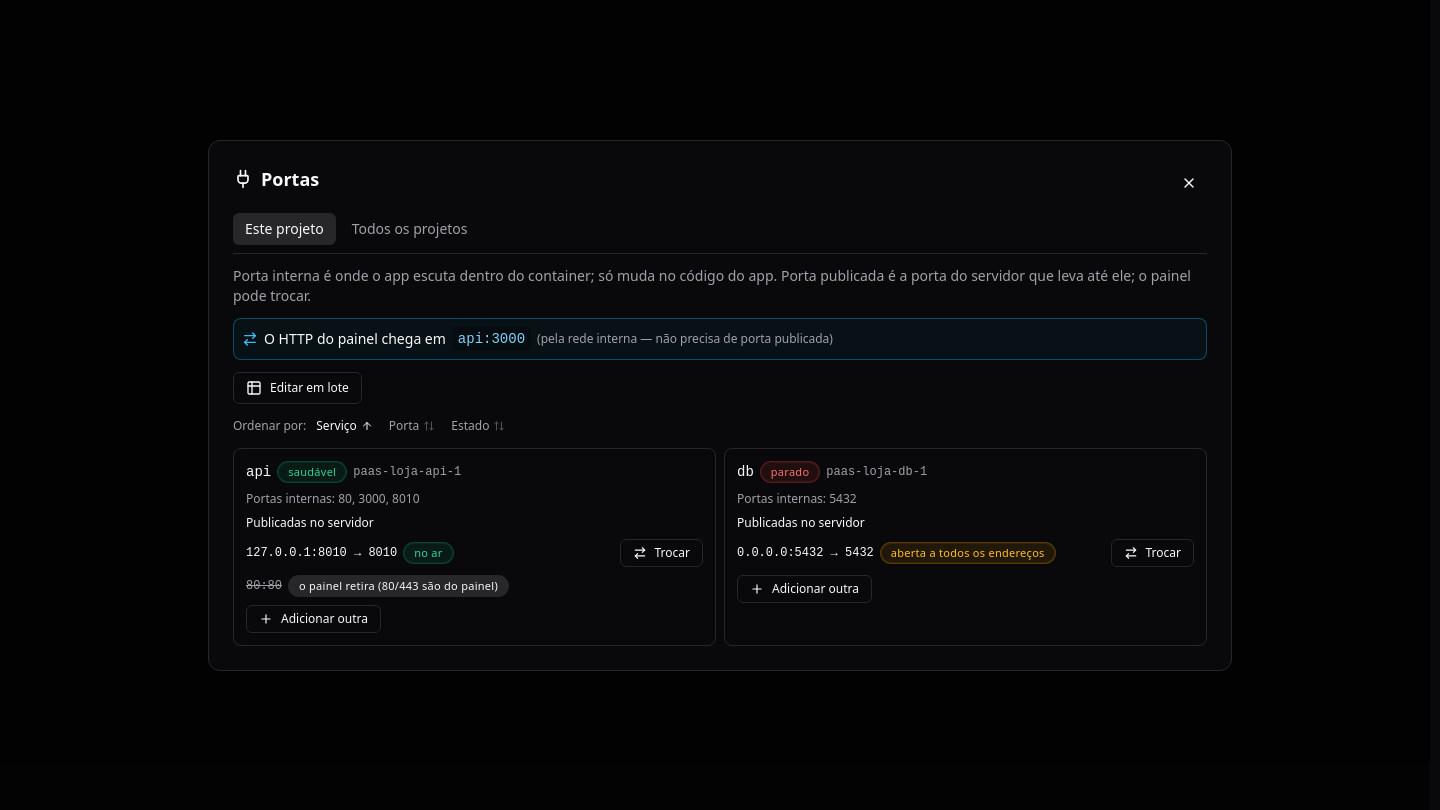
it: aba Todos os projetos › tabela com projeto, container, imagem, estado e porta; conflitos marcados
Expected: the list item with test id "port-service-api" is shown, x1=233 y1=448 x2=716 y2=646
Click the tab "Todos os projetos" at [410, 228], box x1=340 y1=212 x2=480 y2=244
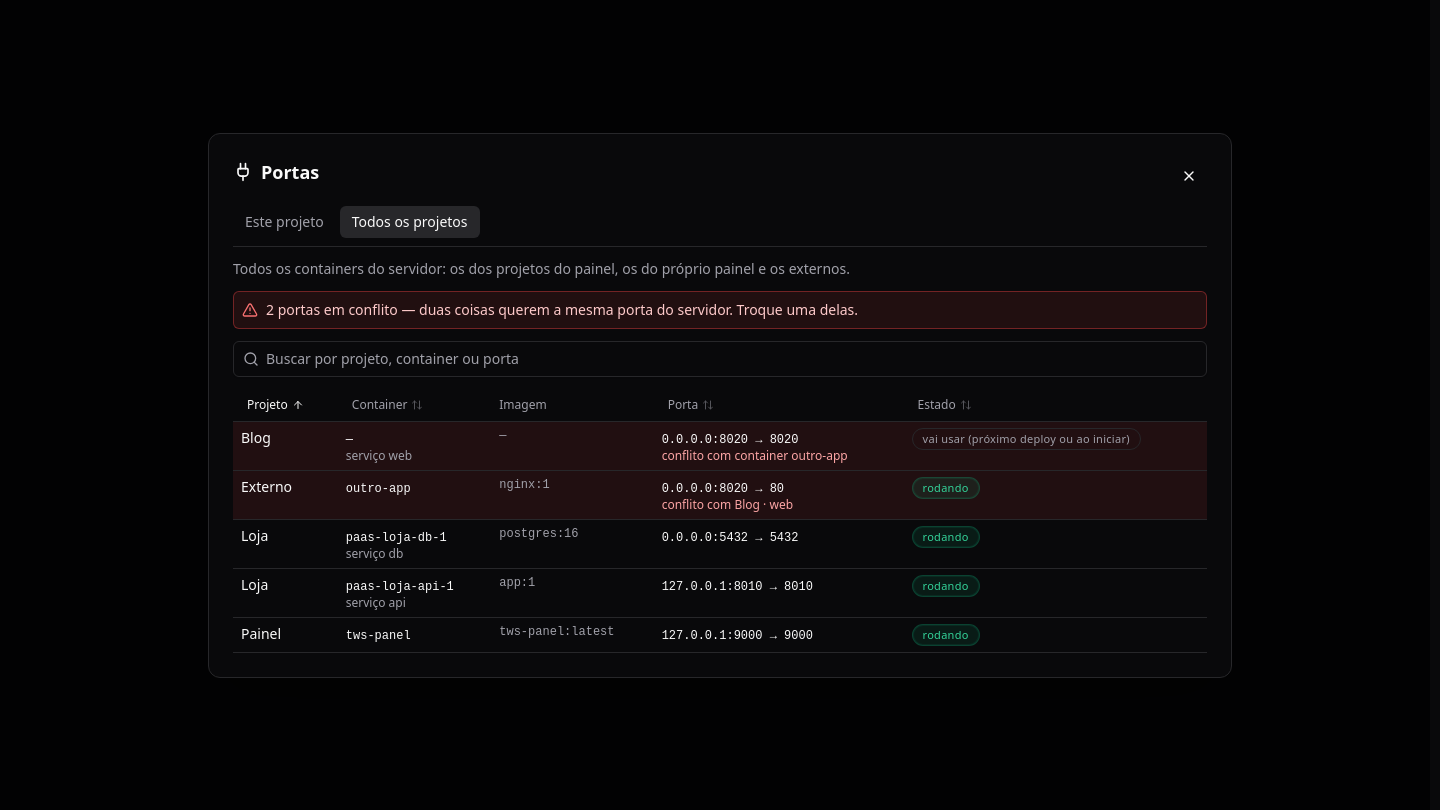
Result: the number of rows is 6 at x1=233 y1=388 x2=1207 y2=421; x1=233 y1=421 x2=1207 y2=470; x1=233 y1=470 x2=1207 y2=519; x1=233 y1=519 x2=1207 y2=568; x1=233 y1=568 x2=1207 y2=617; x1=233 y1=617 x2=1207 y2=652
Result: the table with test id "ports-table" shows "Painel" at x1=241 y1=624 x2=281 y2=642
Result: the table with test id "ports-table" shows "Externo" at x1=241 y1=476 x2=292 y2=496
